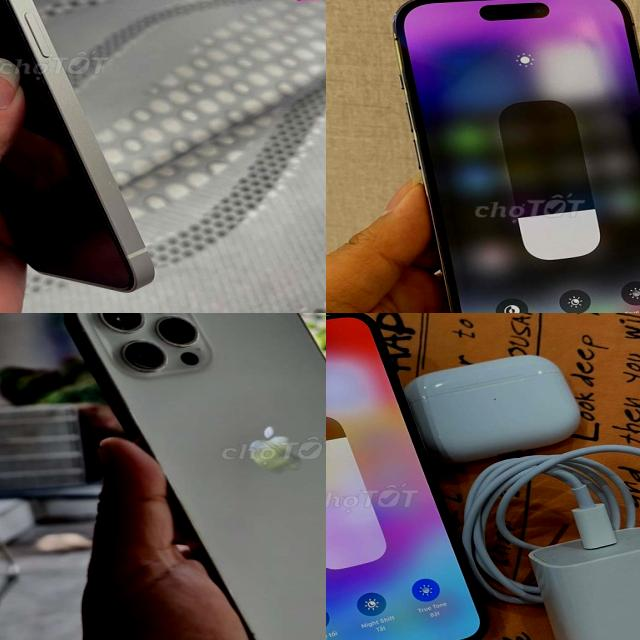gen_11: (326, 313, 494, 640)
gen_12_13: (64, 313, 326, 640), (0, 0, 161, 291)
gen_14: (383, 0, 640, 313)
